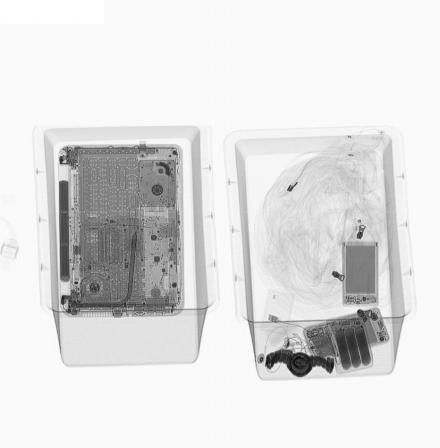Powerbank: (342, 241, 380, 307), (331, 323, 376, 374)
